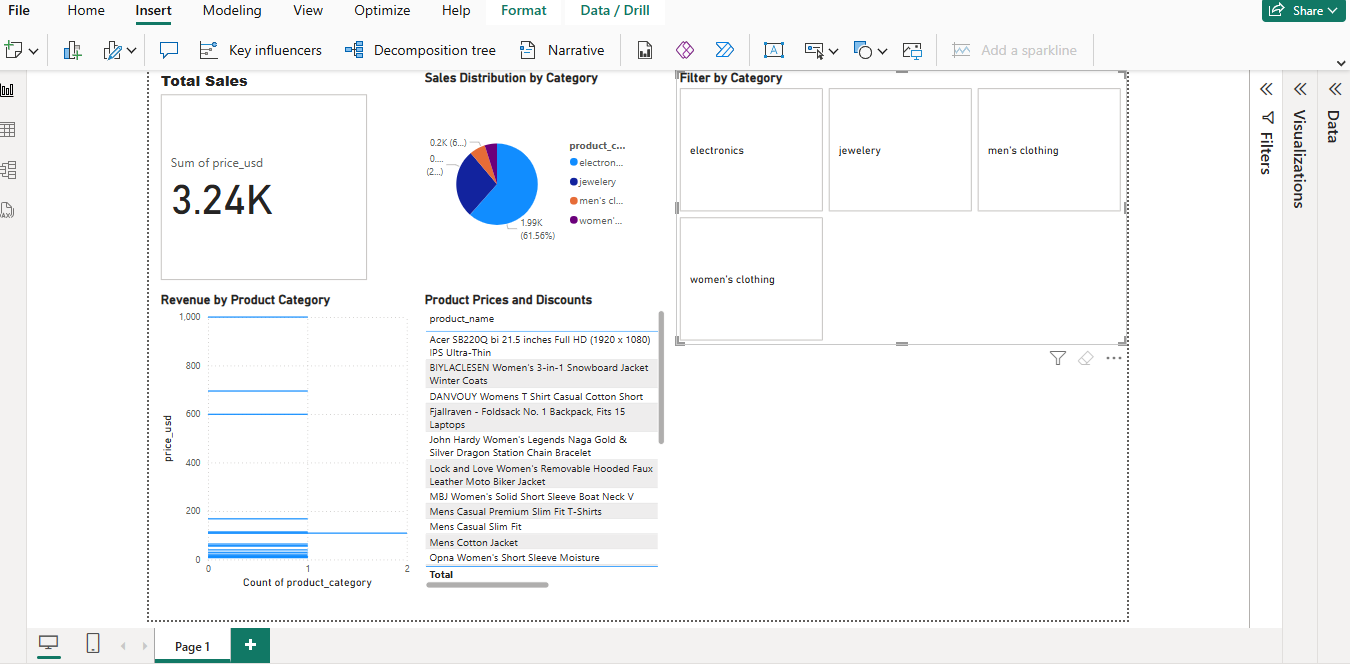

The page's visual inventory and layout, read from the dashboard file:
{"tool":"powerbi","page":{"name":"Page 1","canvas":[1280,720],"ordinal":0},"visuals":[{"type":"cardVisual","title":"Total Sales","fields":{"Data":["Sum(sales_data_cleaned.price_usd)"]},"box":[10,0,280,280],"z":0},{"type":"barChart","title":"Revenue by Product Category","fields":{"Y":["CountNonNull(sales_data_cleaned.product_category)"],"Category":["sales_data_cleaned.price_usd"]},"box":[10.1,290.6,336,393.1],"z":1000},{"type":"pieChart","title":"Sales Distribution by Category","fields":{"Y":["Sum(sales_data_cleaned.price_usd)"],"Category":["sales_data_cleaned.product_category"]},"box":[356,0,280,280],"z":2000},{"type":"tableEx","title":"Product Prices and Discounts","fields":{"Values":["sales_data_cleaned.product_name","Sum(sales_data_cleaned.price_usd)","Sum(sales_data_cleaned.discounted_price)"]},"box":[356.1,290.6,324.2,393.1],"z":3000},{"type":"advancedSlicerVisual","title":"Filter by Category","fields":{"Values":["sales_data_cleaned.product_category"]},"box":[690.4,0,488.8,339.3],"z":4000}]}

Visuals, with their boxes on the page's 1280x720 design canvas (x1, y1, x2, y2). These are canvas units, not pixel positions in the 1350x664 screenshot, which may show the page scaled, cropped or inside an application window:
"Total Sales" cardVisual: {"x1": 10, "y1": 0, "x2": 290, "y2": 280}
"Revenue by Product Category" barChart: {"x1": 10, "y1": 291, "x2": 346, "y2": 684}
"Sales Distribution by Category" pieChart: {"x1": 356, "y1": 0, "x2": 636, "y2": 280}
"Product Prices and Discounts" tableEx: {"x1": 356, "y1": 291, "x2": 680, "y2": 684}
"Filter by Category" advancedSlicerVisual: {"x1": 690, "y1": 0, "x2": 1179, "y2": 339}
